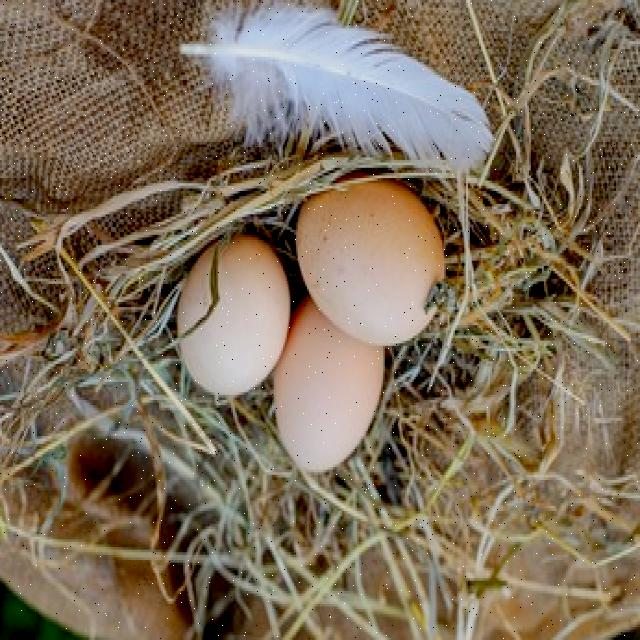Brown Egg: (285, 170, 444, 340), (174, 240, 301, 401), (272, 308, 386, 472)
